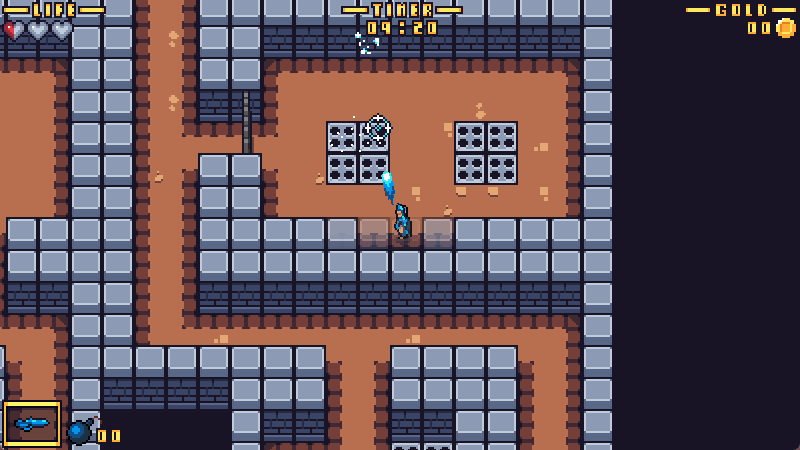aim: (366, 114, 392, 142)
bomb_counter_0: (66, 415, 122, 450)
gold_counter: (686, 1, 799, 40)
health-5: (1, 20, 75, 42)
player: (393, 204, 413, 245)
shoot: (382, 171, 397, 207)
timer: (342, 1, 463, 38)
trap_door: (237, 88, 258, 159)
trap_off: (455, 121, 517, 185), (326, 122, 389, 184)
